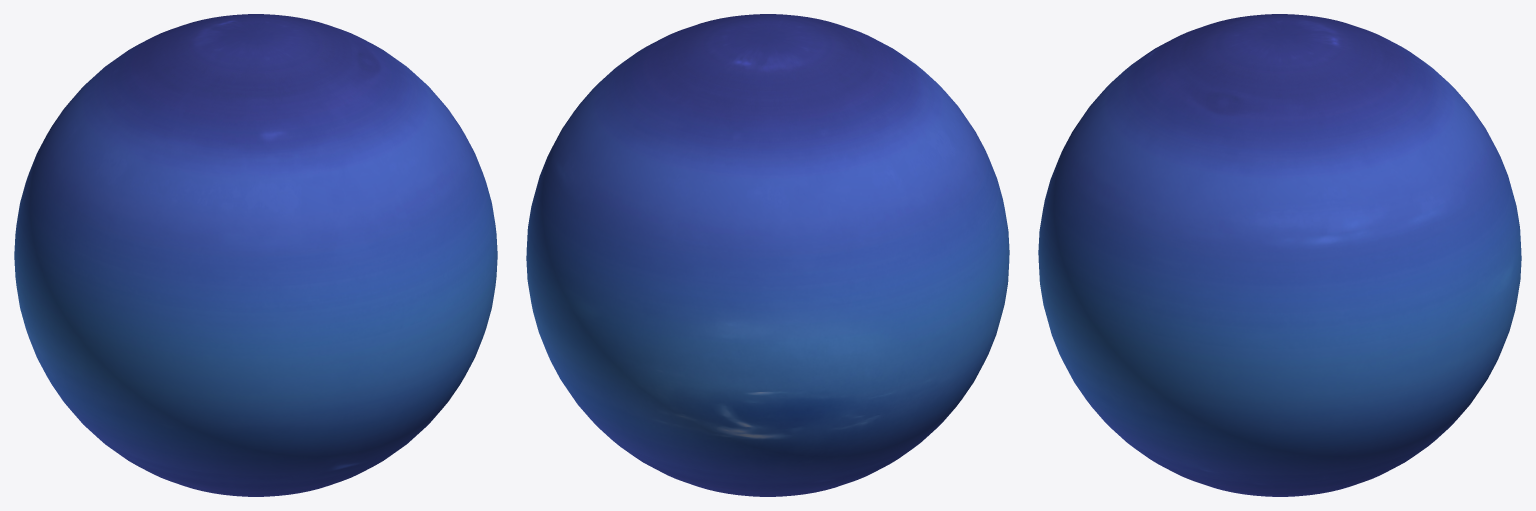
File: neptune.glb
3 views of the same model, side by side, from view 1: azimuth 30°, elevation 25°; view 2: azimuth 150°, elevation 25°; view 3: azimuth 270°, elevation 25° (orthographic).
Visible parts, largest first — view 1: Neptune; view 2: Neptune; view 3: Neptune.
Boxes of the visible parts, left/top/right/bottom form: Neptune: left=14, top=14, right=497, bottom=496; Neptune: left=526, top=14, right=1009, bottom=496; Neptune: left=1038, top=14, right=1521, bottom=496.
Bounding box in the file's own units: 2 × 2 × 2.
1 material, 1 textured.
